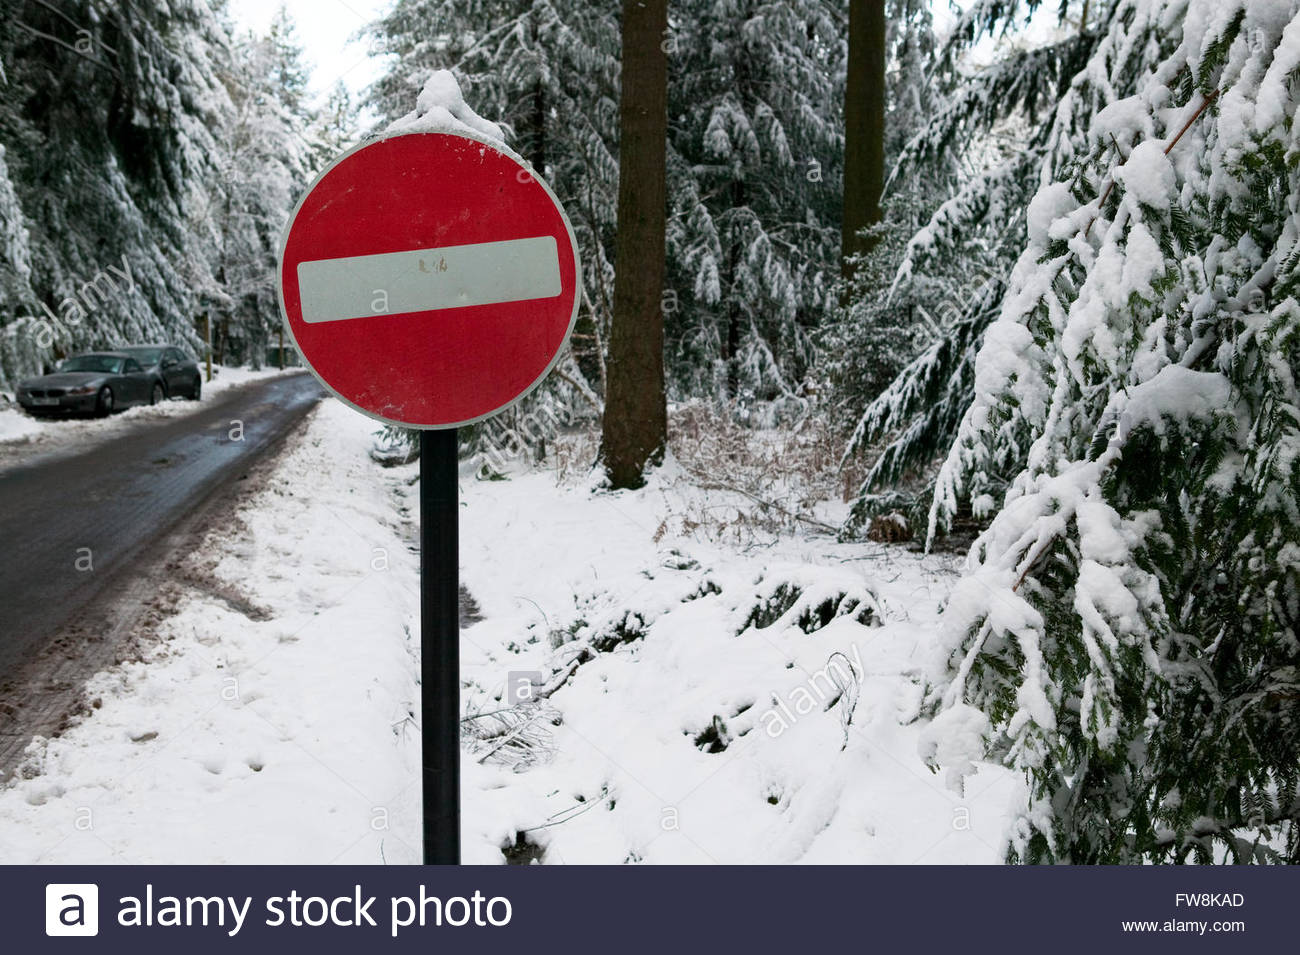No_entry: (278, 123, 586, 429)
